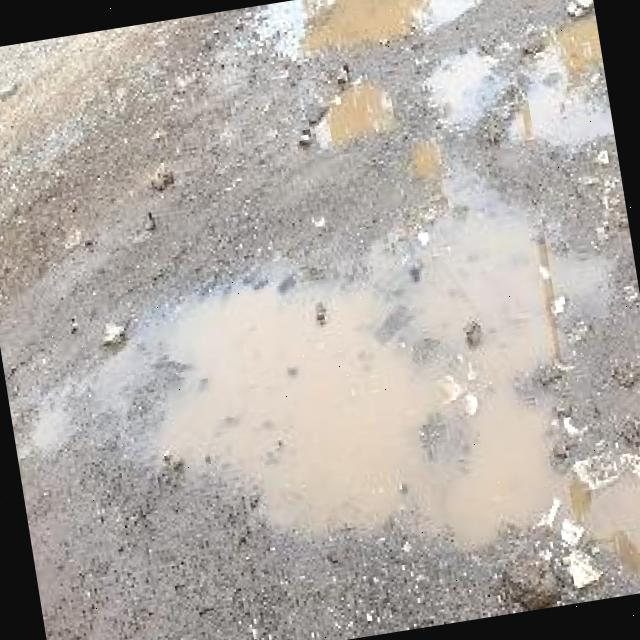stagnation: (92, 201, 640, 607), (459, 0, 616, 167), (288, 60, 410, 172), (283, 0, 440, 63)
